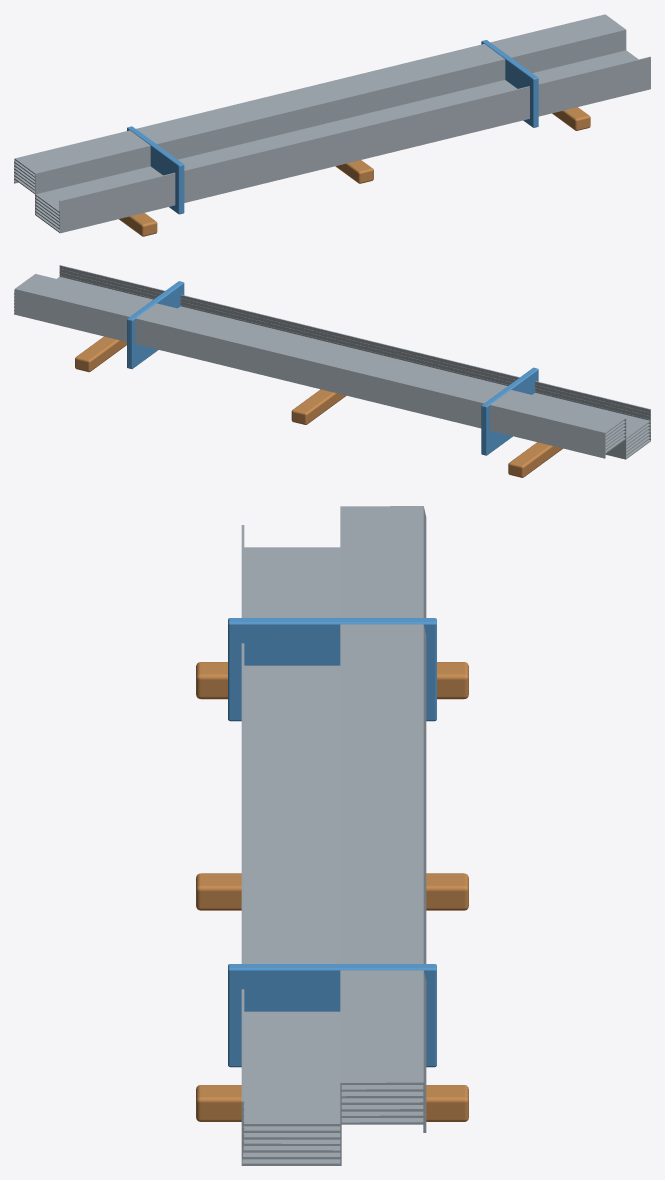
The model's file is pilha_rufos.glb.
The picture shows the model from 3 angles, top to bottom: view 1: azimuth 30°, elevation 25°; view 2: azimuth 150°, elevation 25°; view 3: azimuth 270°, elevation 25°; orthographic projection. The views are drawn at different scales.
Visible parts, largest first — view 1: rufo (×7), cinta (×2), pontalete (×3); view 2: rufo (×7), pontalete (×3), cinta (×2); view 3: rufo (×7), cinta (×2), pontalete (×3).
Part boxes in pixels (x1=…): rufo (×7): x1=14, y1=14, x2=650, y2=233; cinta (×2): x1=127, y1=40, x2=538, y2=214; pontalete (×3): x1=119, y1=107, x2=590, y2=236; rufo (×7): x1=14, y1=265, x2=650, y2=459; pontalete (×3): x1=75, y1=336, x2=562, y2=477; cinta (×2): x1=127, y1=281, x2=538, y2=455; rufo (×7): x1=241, y1=506, x2=426, y2=1165; cinta (×2): x1=228, y1=618, x2=436, y2=1067; pontalete (×3): x1=196, y1=662, x2=468, y2=1121.
Size of the model in its own units: 3 by 0.27 by 0.6.
